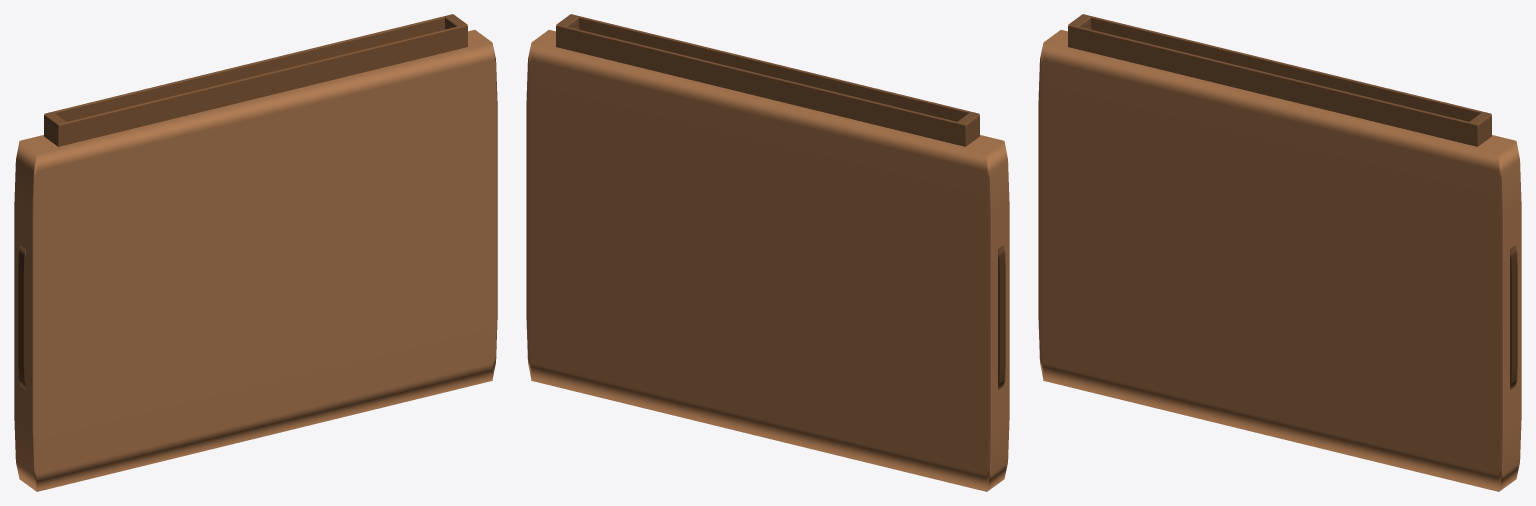
File: wp-ardoise-individuelle.glb
3 views of the same model, side by side, from view 1: azimuth 30°, elevation 25°; view 2: azimuth 150°, elevation 25°; view 3: azimuth 330°, elevation 25° (orthographic).
Visible parts, largest first — view 1: wp-ardoise-individuelle; view 2: wp-ardoise-individuelle; view 3: wp-ardoise-individuelle.
Boxes of the visible parts, bbox=[...] form: wp-ardoise-individuelle: bbox=[14, 14, 497, 491]; wp-ardoise-individuelle: bbox=[526, 14, 1009, 491]; wp-ardoise-individuelle: bbox=[1038, 14, 1521, 491].
Bounding box in the file's own units: 0.3 × 0.22 × 0.02.
